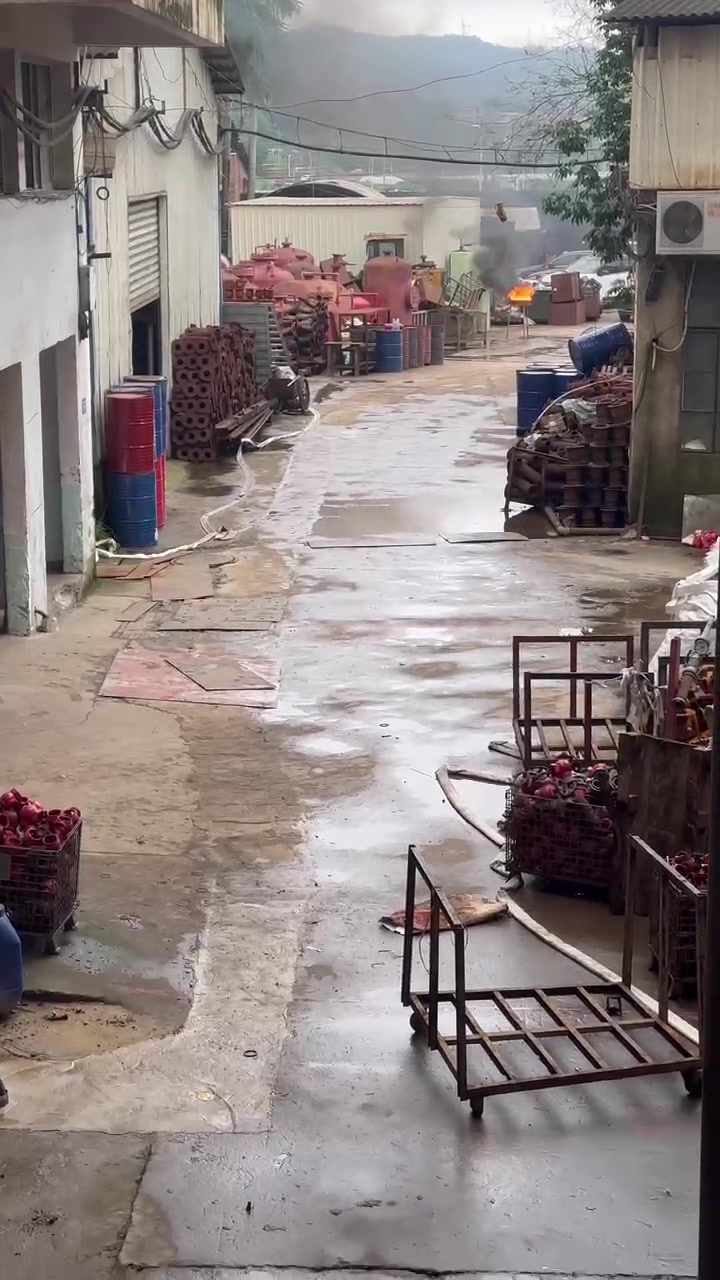fire: (507, 283, 532, 299)
